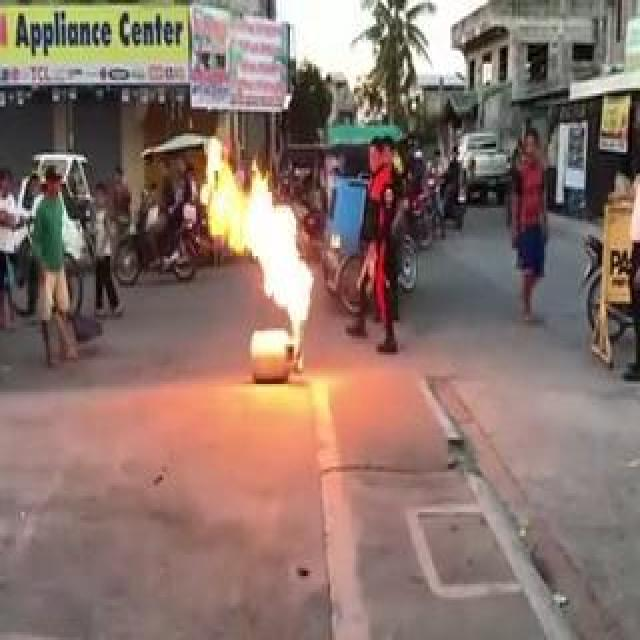Fire: (202, 146, 312, 338)
